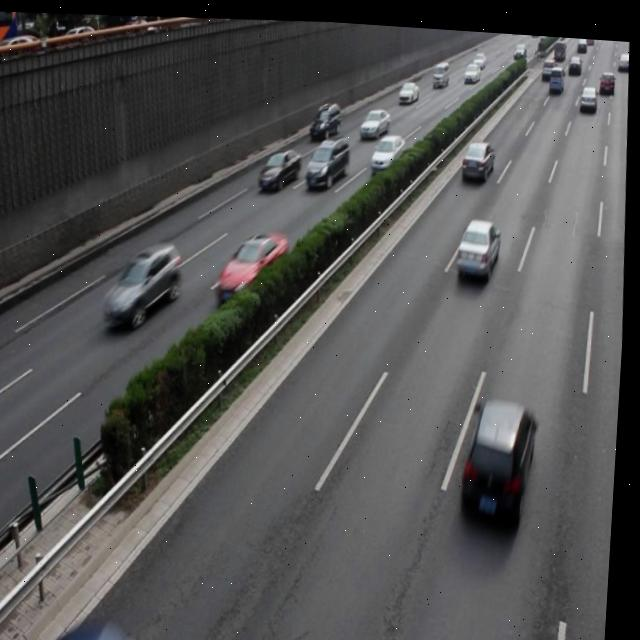car: (459, 387, 544, 520), (103, 234, 187, 326), (216, 225, 292, 306), (455, 207, 503, 273), (50, 610, 147, 640), (303, 128, 352, 187), (258, 140, 304, 187), (459, 132, 496, 177), (370, 125, 407, 167)
